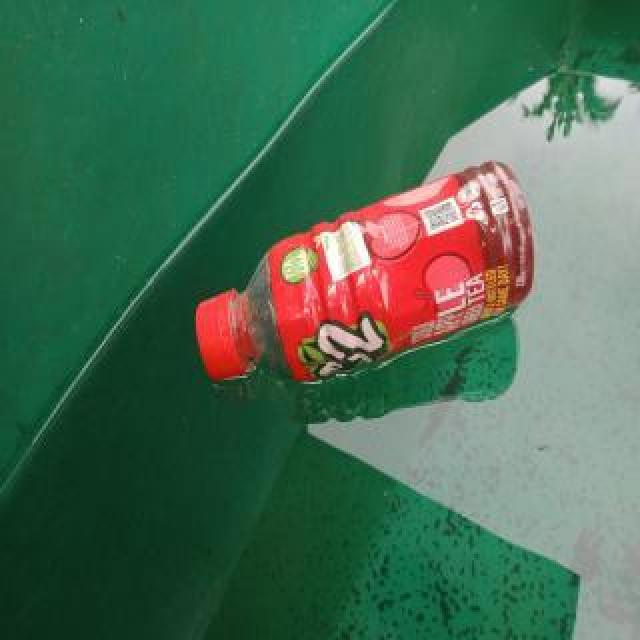Bottle: (188, 155, 544, 397)
